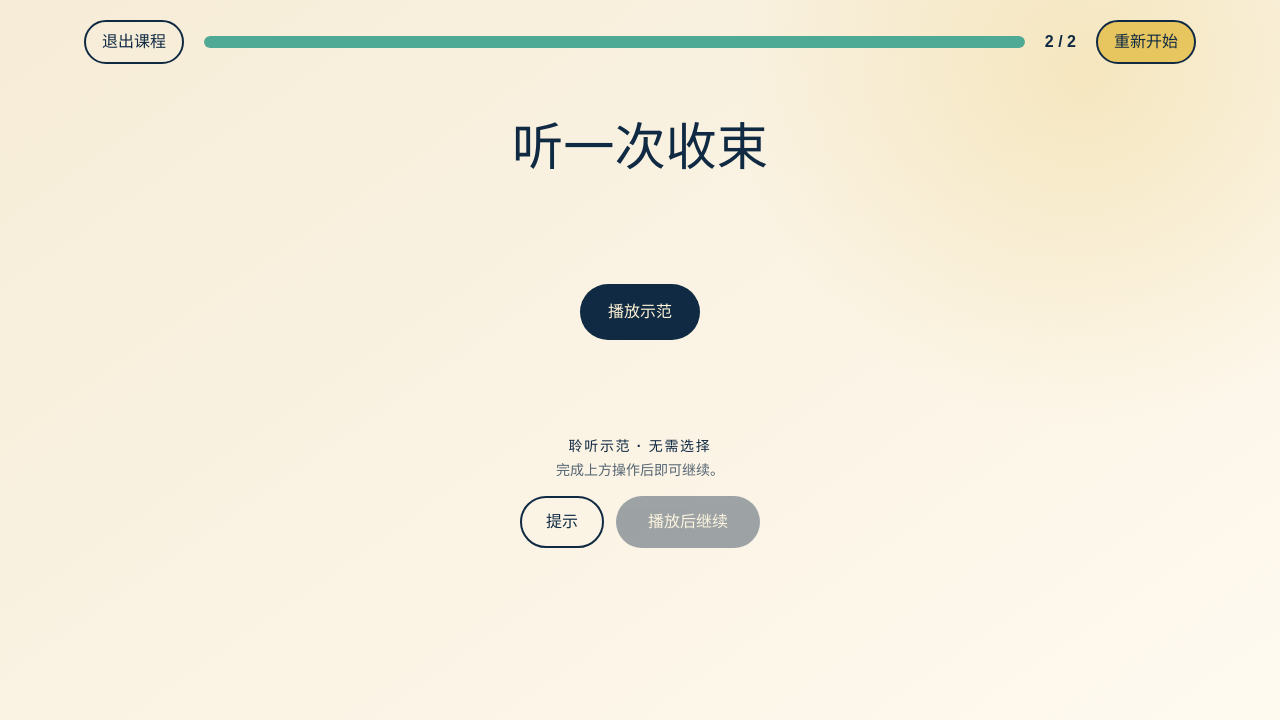
Test: cancels restarting and keeps the current lesson step
Click the button "重新开始" at (1146, 42), box [1096, 20, 1196, 64]
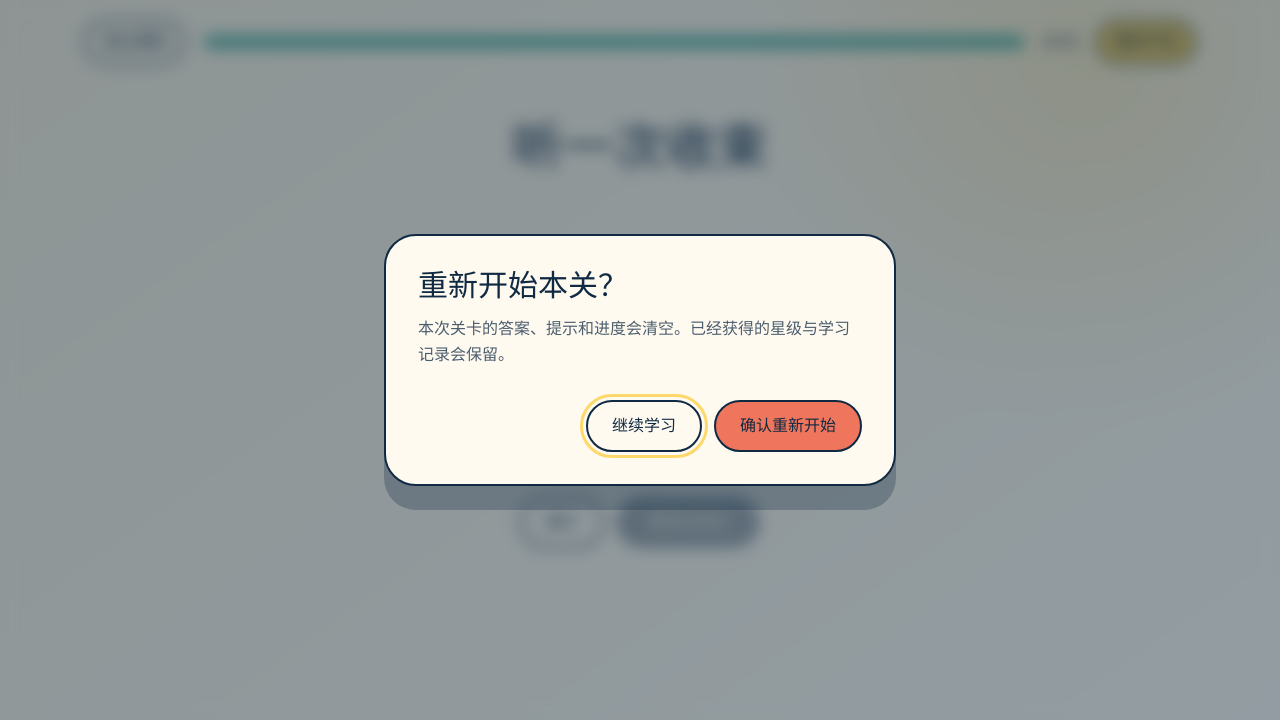
Result: the dialog "重新开始本关？" is shown at [384, 234, 896, 486]
Click the button "继续学习" at (644, 426), box [586, 400, 702, 452]
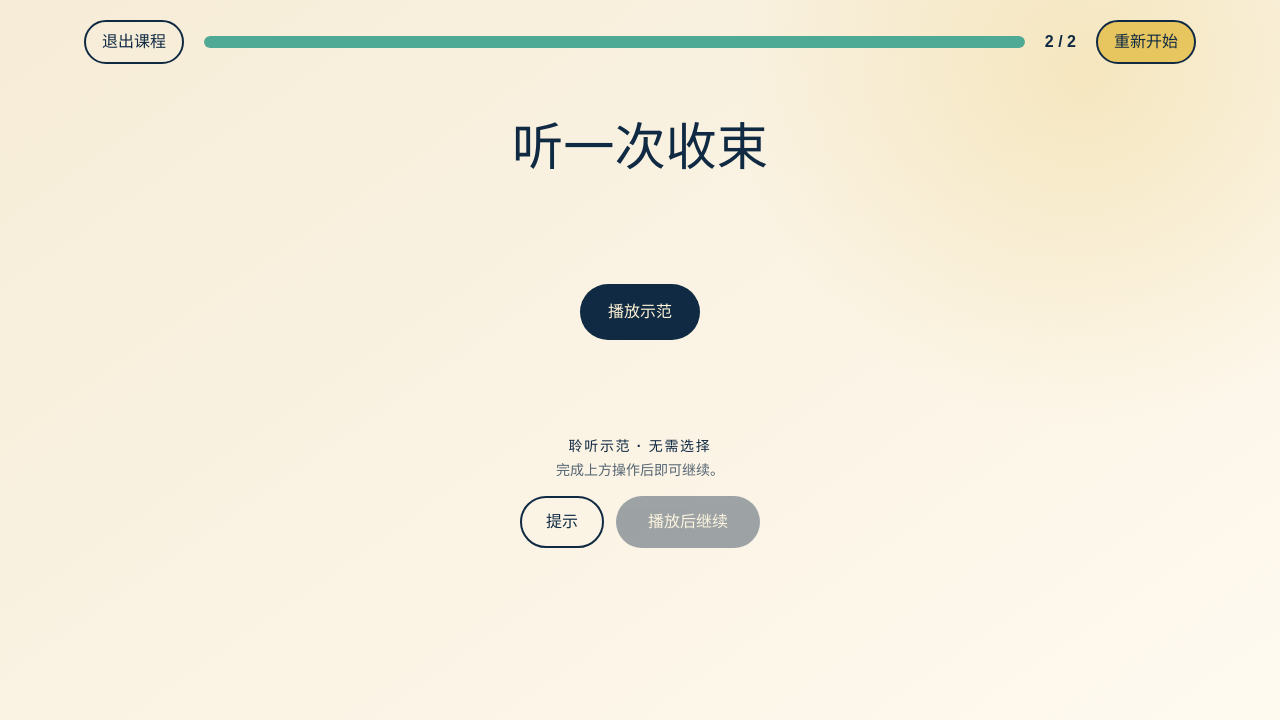
Expected: the heading "听一次收束" is shown, [512, 116, 768, 180]
Result: the heading "重新开始本关？" is gone
